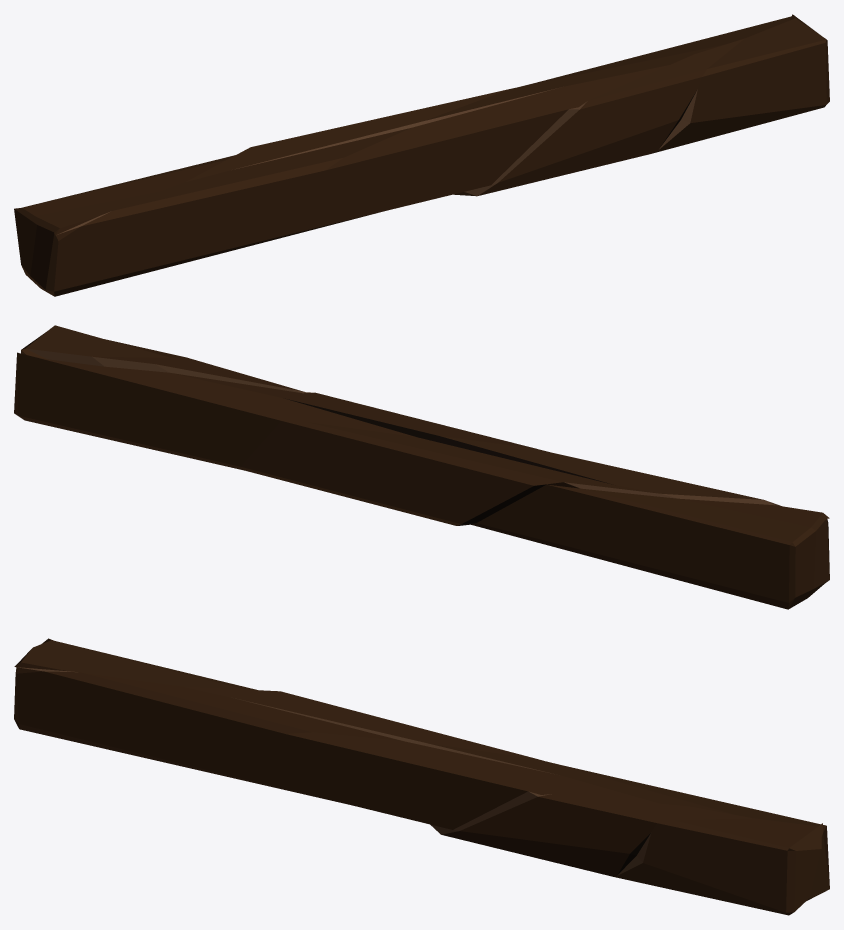
The model's file is Column_Wood_3M.glb.
3 views of the same model, one above another, from view 1: azimuth 30°, elevation 25°; view 2: azimuth 150°, elevation 25°; view 3: azimuth 330°, elevation 25° (orthographic).
Visible parts, largest first — view 1: Column_Wood_3M; view 2: Column_Wood_3M; view 3: Column_Wood_3M.
Boxes of the visible parts, x1,y1,x2,y2 form: Column_Wood_3M: (14,14,829,296); Column_Wood_3M: (14,325,829,609); Column_Wood_3M: (14,638,829,915).
Size of what is drawn, in the model's own units: 3.03 by 0.2751 by 0.2874.
Materials: 1 (1 with a texture image).
